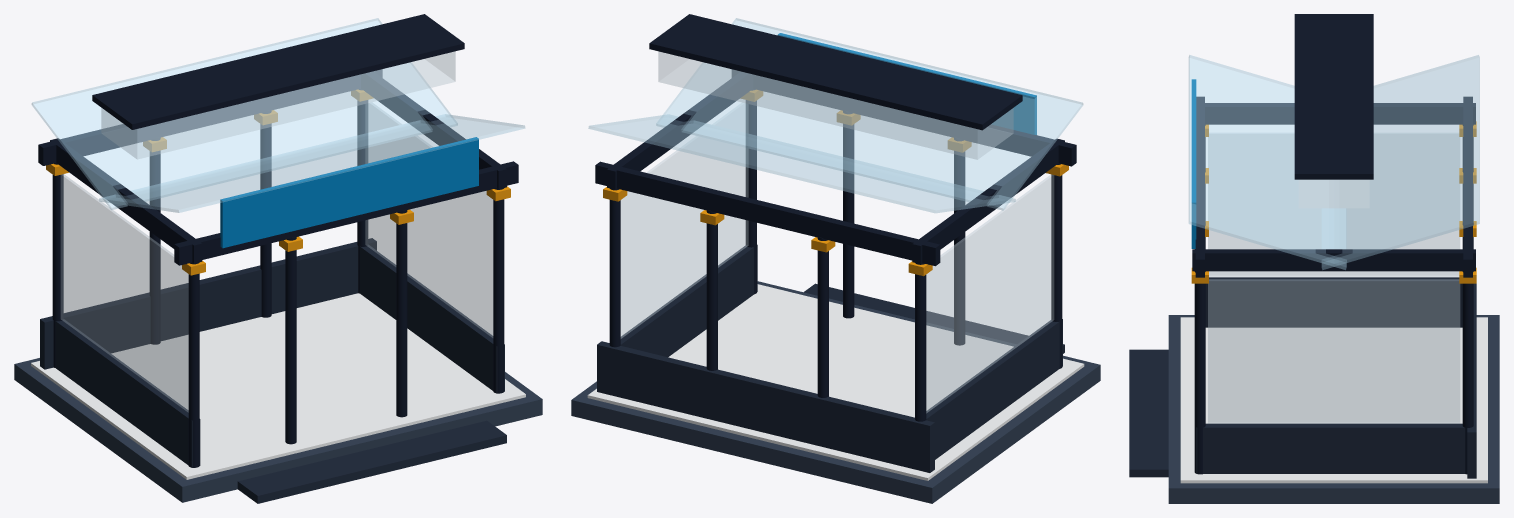
Rendered from booth_04.glb.
3 views of the same model, side by side, from view 1: azimuth 30°, elevation 25°; view 2: azimuth 150°, elevation 25°; view 3: azimuth 270°, elevation 25° (orthographic).
Visible parts, largest first — view 1: chequered_floor, glass_roof_left, glass_side_l, lantern_cap, wainscot_back, CompanySignSurface, glass_roof_right, glass_side_r, brick_plinth, clerestory_lantern, wainscot_l, cast_iron_step (+13 smaller); view 2: glass_roof_right, chequered_floor, glass_side_l, wainscot_back, lantern_cap, glass_side_r, brick_plinth, glass_roof_left, clerestory_lantern, iron_fascia_b, wainscot_l, wainscot_r (+13 smaller); view 3: glass_side_r, chequered_floor, glass_side_l, glass_roof_left, glass_roof_right, wainscot_r, lantern_cap, wainscot_l, brick_plinth, iron_fascia_r, cast_iron_step, iron_fascia_l (+7 smaller).
Boxes of the visible parts, x1,y1,x2,y2 form: chequered_floor: (31,293,525,479); glass_roof_left: (31,18,457,209); glass_side_l: (61,174,188,412); lantern_cap: (92,14,464,129); wainscot_back: (40,238,376,369); CompanySignSurface: (220,137,478,248); glass_roof_right: (99,114,524,212); glass_side_r: (365,103,492,337); brick_plinth: (14,358,542,502); clerestory_lantern: (101,51,455,159); wainscot_l: (52,318,200,467); cast_iron_step: (237,420,506,503); glass_roof_right: (656,18,1083,210); chequered_floor: (587,284,1084,480); glass_side_l: (926,174,1053,412); wainscot_back: (597,341,934,472); lantern_cap: (649,14,1022,130); glass_side_r: (621,103,748,338); brick_plinth: (571,281,1100,503); glass_roof_left: (588,114,1015,212); clerestory_lantern: (658,51,1013,159); iron_fascia_b: (595,161,940,266); wainscot_l: (926,319,1062,459); wainscot_r: (617,244,757,357); glass_side_r: (1208,279,1459,423); chequered_floor: (1180,317,1487,483); glass_side_l: (1208,133,1459,276); glass_roof_left: (1322,55,1479,269); glass_roof_right: (1189,55,1346,269); wainscot_r: (1196,423,1465,473); lantern_cap: (1294,14,1373,179); wainscot_l: (1205,277,1462,327); brick_plinth: (1168,315,1499,503); iron_fascia_r: (1192,249,1475,271); cast_iron_step: (1129,349,1168,477); iron_fascia_l: (1196,103,1475,124).
Bounding box in the file's own units: 5.2 × 4.53 × 4.7.
